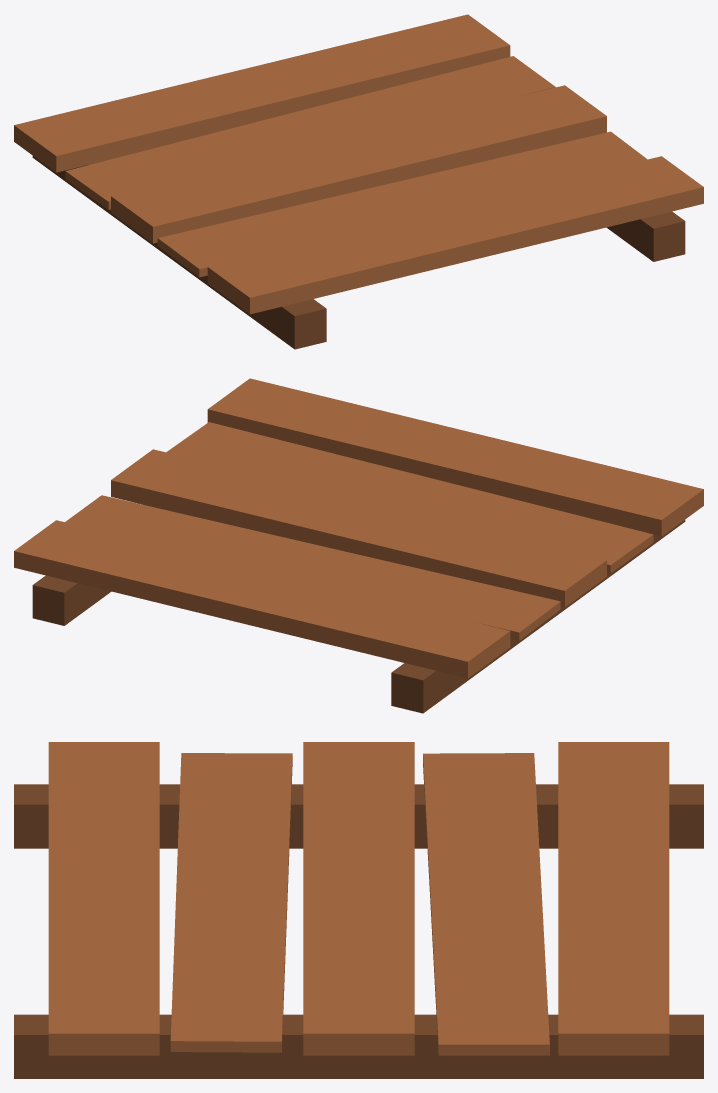
File: platform.glb
The picture shows the model from 3 angles, top to bottom: view 1: azimuth 30°, elevation 25°; view 2: azimuth 150°, elevation 25°; view 3: azimuth 270°, elevation 25°; orthographic projection. The views are drawn at different scales.
Parts seen in each view (by area): view 1: platform; view 2: platform; view 3: platform.
Boxes of the visible parts, x1,y1,x2,y2 form: platform: (14, 14, 703, 349); platform: (14, 378, 703, 713); platform: (14, 742, 703, 1078).
Bounding box in the file's own units: 1 × 0.105 × 1.
